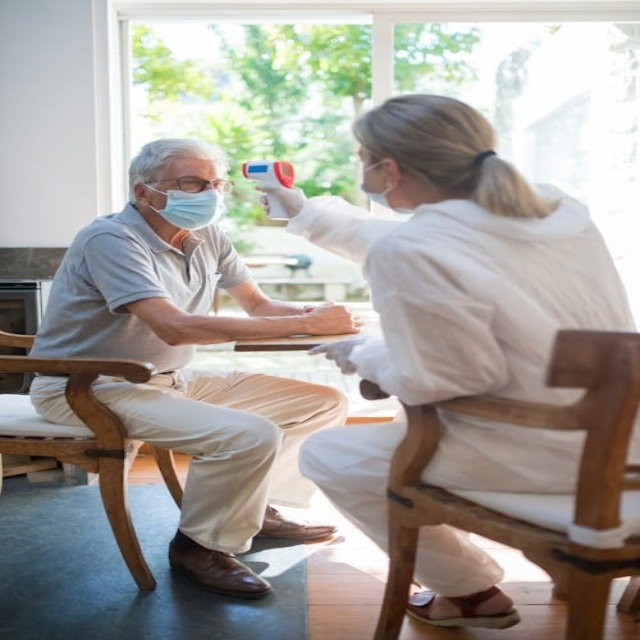Gafas: (137, 170, 229, 198)
Guantes: (306, 334, 373, 375), (254, 178, 306, 220)
Mascara: (145, 184, 223, 229), (364, 167, 405, 211)
Sin_guantes: (256, 302, 363, 338)
